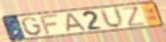2: (82, 9, 107, 33)
A: (64, 12, 89, 33)
F: (38, 13, 60, 36)
G: (20, 16, 44, 36)
U: (98, 6, 126, 29)
Z: (121, 5, 148, 28)
